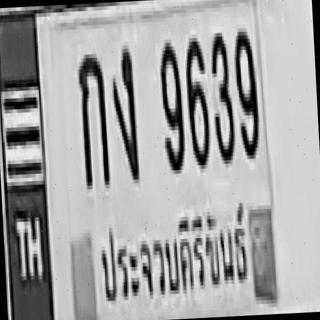A01: (76, 50, 110, 186)
A07: (110, 45, 138, 180)
N00: (182, 34, 210, 166)
N03: (208, 29, 235, 161)
N06: (182, 34, 210, 166)
N09: (158, 39, 186, 171), (232, 28, 259, 156)
P50: (90, 194, 253, 305)
